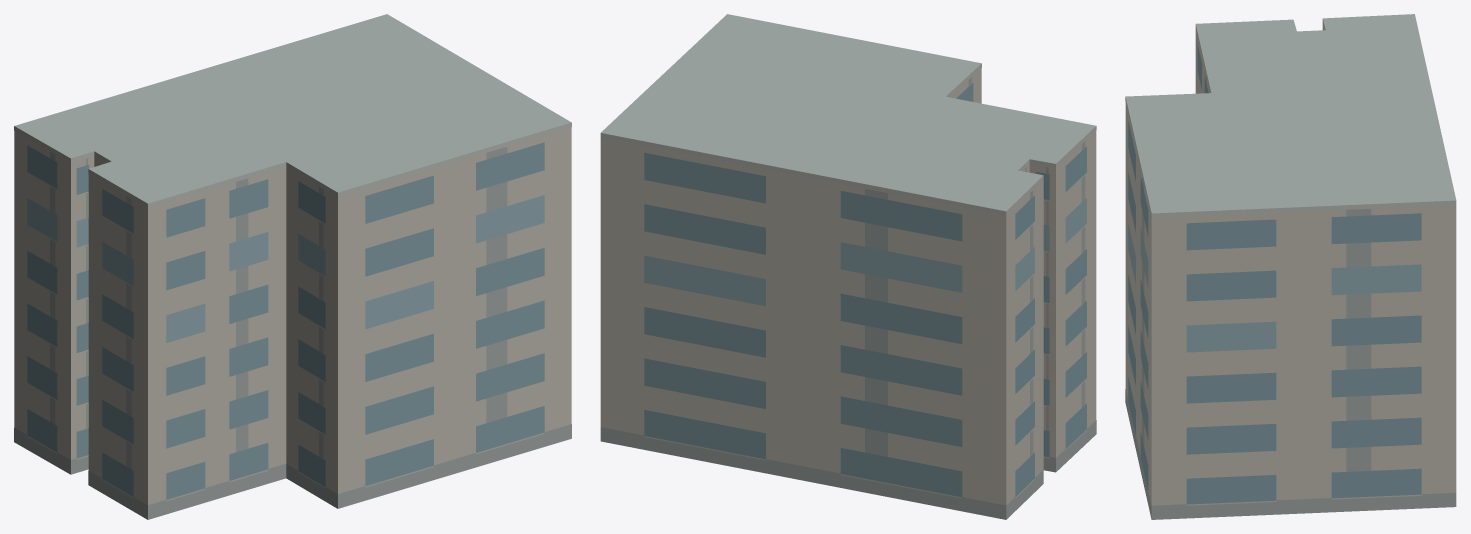
Rendered from survey-upis-33021239.glb.
The picture shows the model from 3 angles, left to right: view 1: azimuth 30°, elevation 25°; view 2: azimuth 150°, elevation 25°; view 3: azimuth 270°, elevation 25°; orthographic projection. The views are drawn at different scales.
Visible parts, largest first — view 1: survey-upis-33021239.tmp; view 2: survey-upis-33021239.tmp; view 3: survey-upis-33021239.tmp.
Boxes of the visible parts, box(x1,y1,x2,y2) form: survey-upis-33021239.tmp: box(14, 14, 571, 519); survey-upis-33021239.tmp: box(600, 14, 1096, 519); survey-upis-33021239.tmp: box(1125, 14, 1456, 519).
Bounding box in the file's own units: 22.48 × 16.1 × 15.76.
